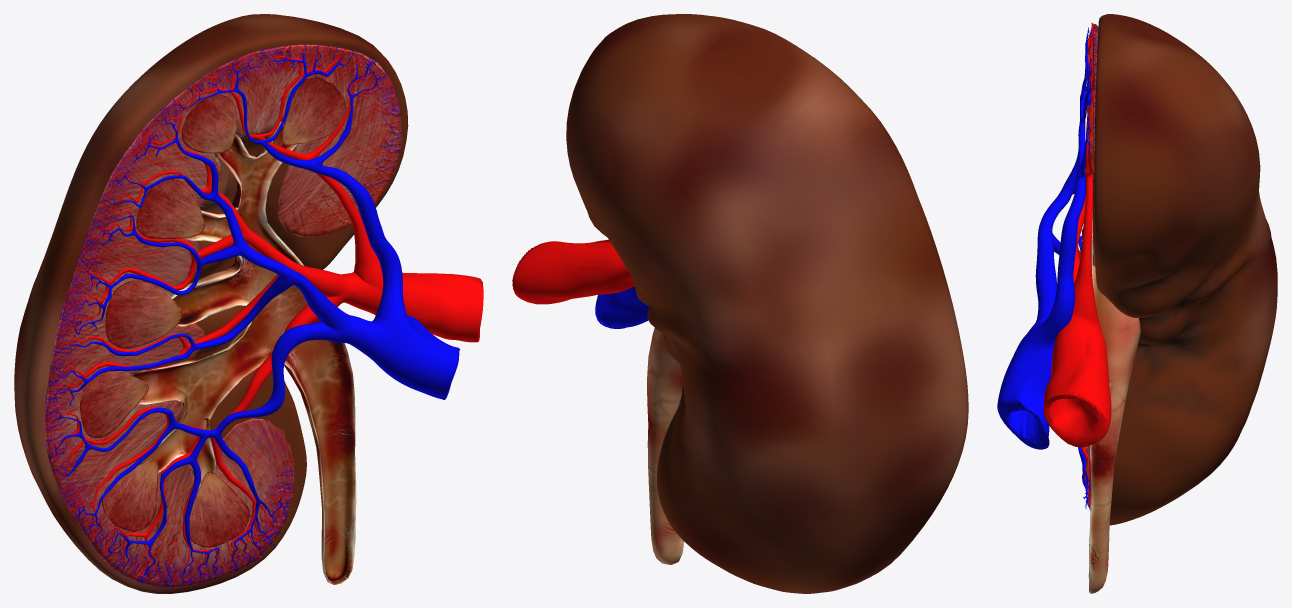
The model's file is kidney.glb.
The picture shows the model from 3 angles, left to right: view 1: azimuth 30°, elevation 25°; view 2: azimuth 150°, elevation 25°; view 3: azimuth 270°, elevation 25°; orthographic projection. The views are drawn at different scales.
Visible parts, largest first — view 1: Maya_2018:Cortex, Maya_2018:Capsule, Maya_2018:Ureter, Maya_2018:BLUE, Maya_2018:Medulla pyramid, Maya_2018:RED; view 2: Maya_2018:Capsule, Maya_2018:RED, Maya_2018:Ureter, Maya_2018:BLUE; view 3: Maya_2018:Capsule, Maya_2018:BLUE, Maya_2018:RED, Maya_2018:Ureter, Maya_2018:Cortex.
Part boxes in pixels (<box>): Maya_2018:Cortex: <box>44,44,401,587</box>; Maya_2018:Capsule: <box>14,14,408,593</box>; Maya_2018:Ureter: <box>132,121,356,584</box>; Maya_2018:BLUE: <box>51,53,459,584</box>; Maya_2018:Medulla pyramid: <box>80,76,346,547</box>; Maya_2018:RED: <box>49,46,483,583</box>; Maya_2018:Capsule: <box>566,14,968,593</box>; Maya_2018:RED: <box>512,57,814,304</box>; Maya_2018:Ureter: <box>647,328,684,564</box>; Maya_2018:BLUE: <box>595,286,648,328</box>; Maya_2018:Capsule: <box>1094,14,1277,525</box>; Maya_2018:BLUE: <box>997,27,1092,509</box>; Maya_2018:RED: <box>1043,22,1111,509</box>; Maya_2018:Ureter: <box>1088,211,1140,593</box>; Maya_2018:Cortex: <box>1086,24,1098,503</box>.
Bounding box in the file's own units: 8.47 × 10.1 × 4.88.
Materials: 6 (4 with a texture image).
